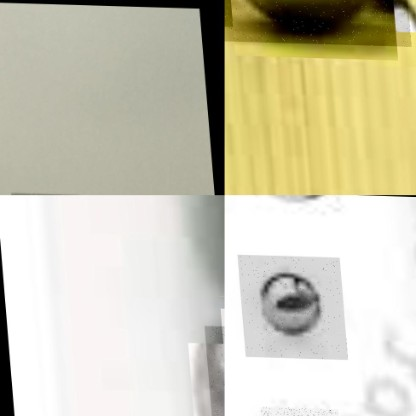ironball: (235, 253, 344, 358), (224, 0, 407, 44), (234, 195, 364, 229)
